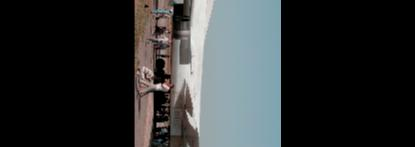Su34: (155, 0, 273, 145)
